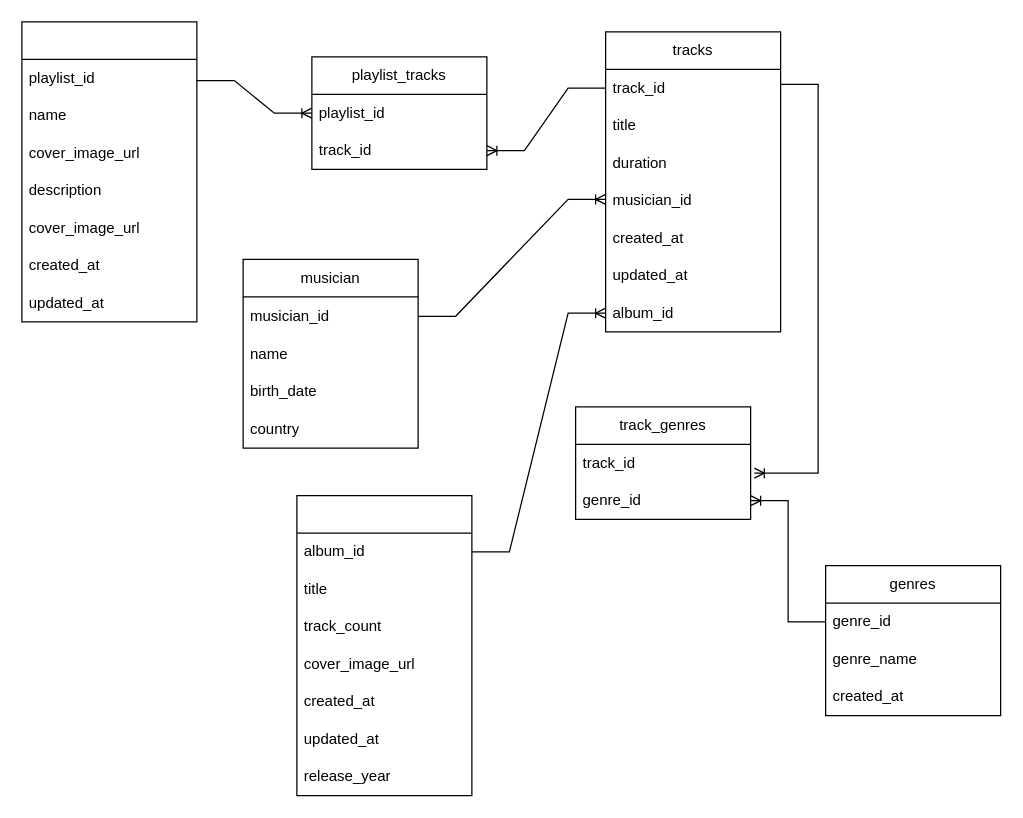
The diagram is 1023 pixels wide and 818 high, and some of its shapes have lost their labels. Each missing label, with the box of its shape:
albums: (296, 494, 472, 796)
playlists: (21, 21, 197, 322)
